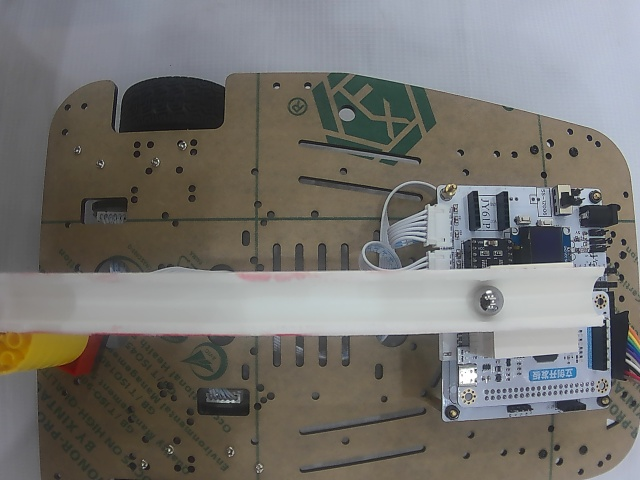steelball: (474, 286, 503, 316)
